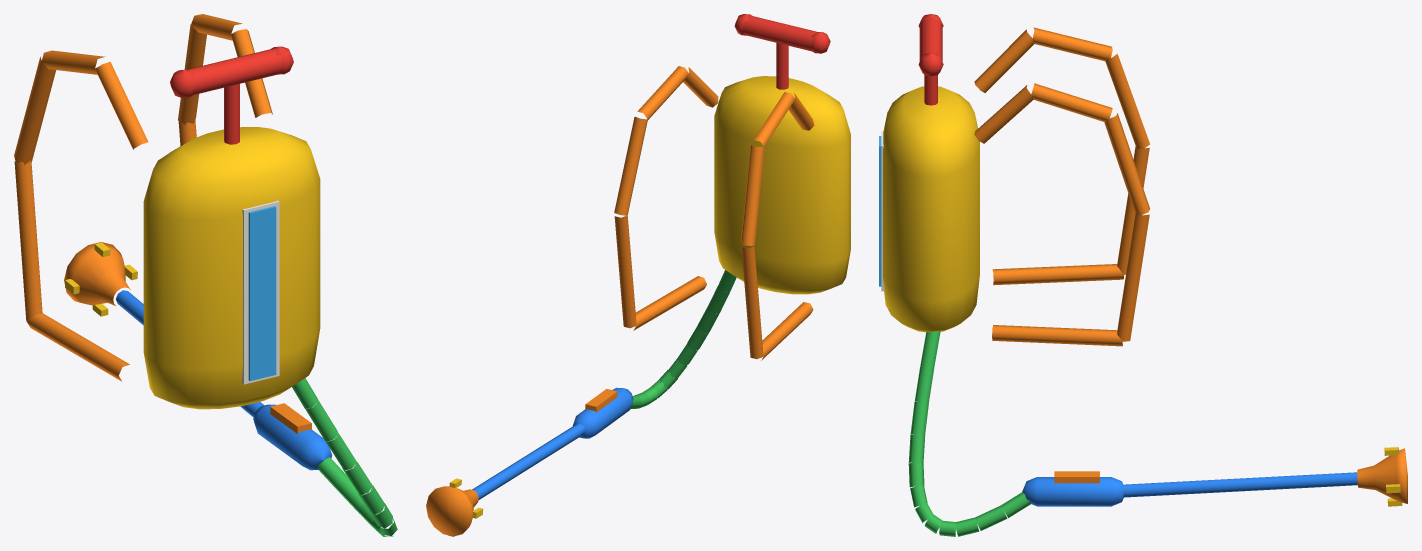
The model's file is water-blaster.glb.
The picture shows the model from 3 angles, left to right: view 1: azimuth 30°, elevation 25°; view 2: azimuth 150°, elevation 25°; view 3: azimuth 270°, elevation 25°; orthographic projection. The views are drawn at different scales.
Visible parts, largest first — view 1: tank, wand, water_level, pump_handle, hose; view 2: tank, wand, pump_handle, hose; view 3: tank, wand, hose, pump_handle.
Boxes of the visible parts, x1,y1,x2,y2 form: tank: (14, 14, 320, 409); wand: (64, 242, 332, 470); water_level: (248, 206, 276, 381); pump_handle: (170, 46, 293, 144); hose: (292, 378, 397, 536); tank: (614, 66, 850, 360); wand: (426, 387, 633, 536); pump_handle: (734, 14, 830, 89); hose: (630, 270, 736, 409); tank: (881, 27, 1149, 346); wand: (1022, 447, 1407, 506); hose: (908, 331, 1030, 536); pump_handle: (918, 14, 943, 105).
Bounding box in the file's own units: 0.4527 × 0.8388 × 0.9239.
